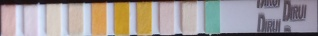color 1: (1, 6, 13, 35)
color 10: (206, 3, 218, 31)
color 2: (25, 6, 37, 34)
color 3: (47, 6, 59, 35)
color 4: (69, 5, 82, 36)
color 5: (93, 5, 104, 35)
color 6: (115, 4, 126, 36)
color 7: (138, 4, 149, 32)
color 8: (161, 4, 171, 32)
color 9: (183, 3, 194, 32)
